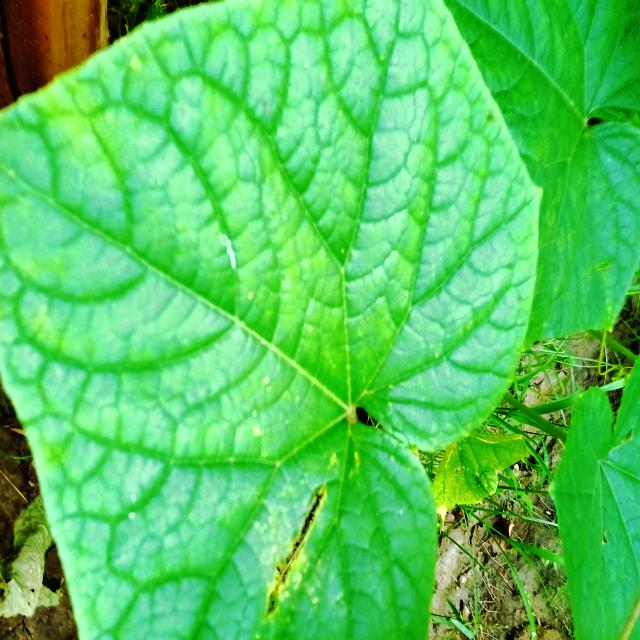Fresh-Leaf: (0, 0, 543, 640)
